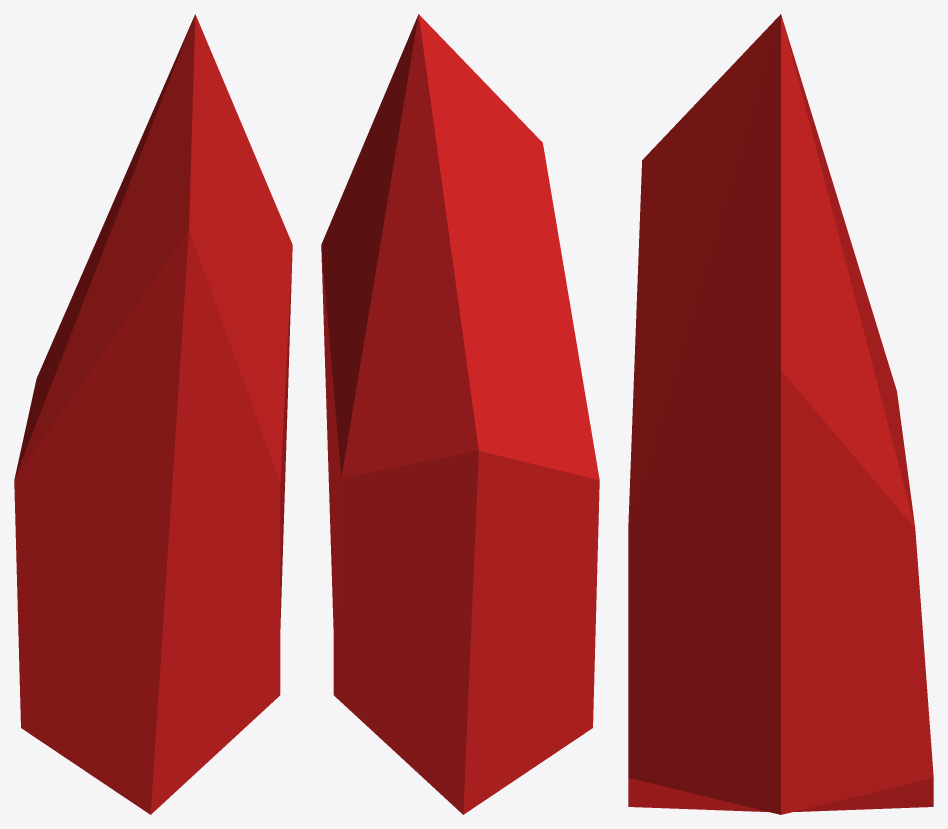
File: Crystale_Plat_3.FBX
3 views of the same model, side by side, from view 1: azimuth 30°, elevation 25°; view 2: azimuth 150°, elevation 25°; view 3: azimuth 270°, elevation 25° (orthographic). The views are drawn at different scales.
Parts seen in each view (by area): view 1: Spindle007; view 2: Spindle007; view 3: Spindle007.
Part boxes in pixels (x1,y1,x2,y2): Spindle007: (14,14,292,814); Spindle007: (321,14,599,814); Spindle007: (628,14,933,814).
Bounding box in the file's own units: 46.8 × 117 × 37.75.
